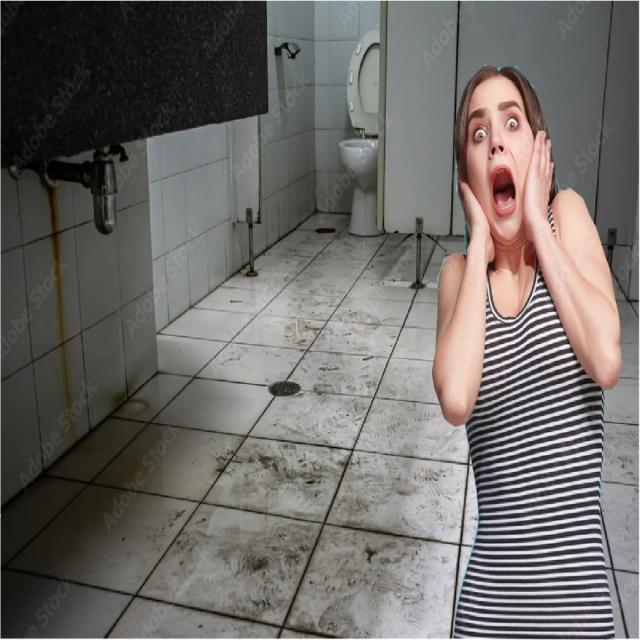dirty_floor: (1, 211, 639, 637)
